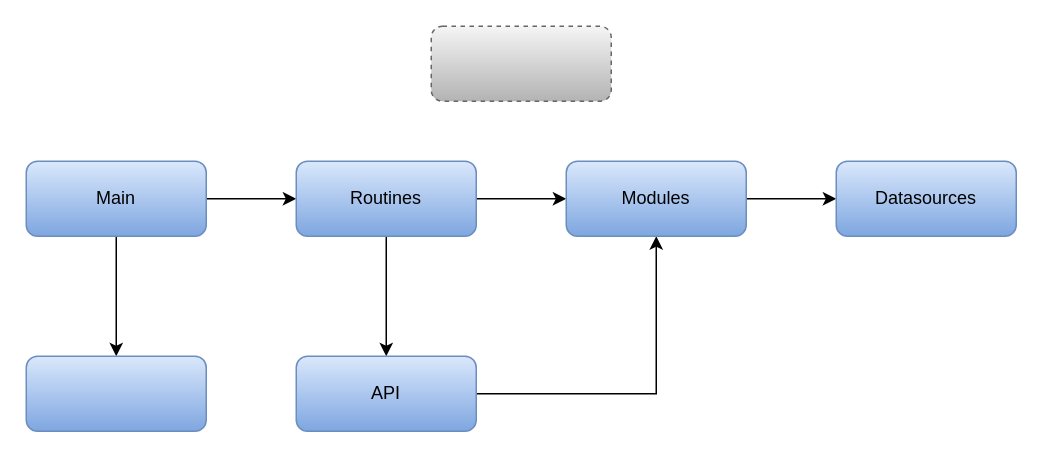
Some shapes in this 1043 by 458 pixel diagram are drawn without their labels. Here are the shapes that lost their labels. From the top down, the centre of each, then its label:
the point at 520,63: Misc
the point at 115,393: Ctx
